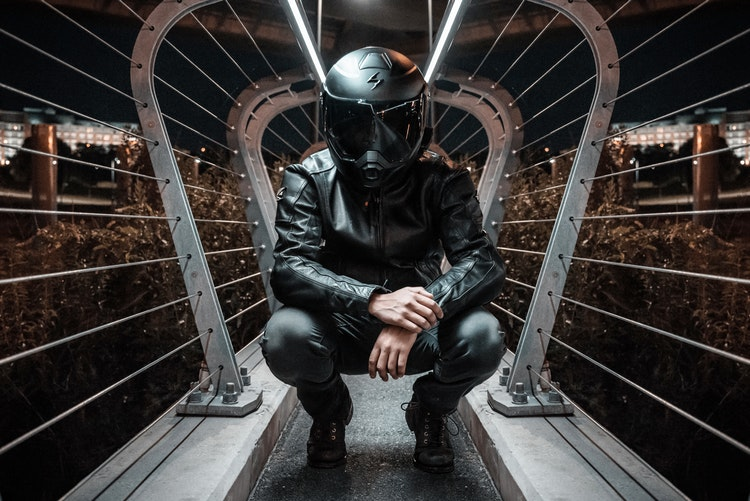helmet: (308, 48, 442, 169)
